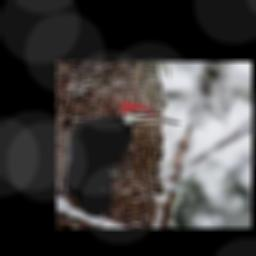Woodpecker: (70, 101, 180, 217)
